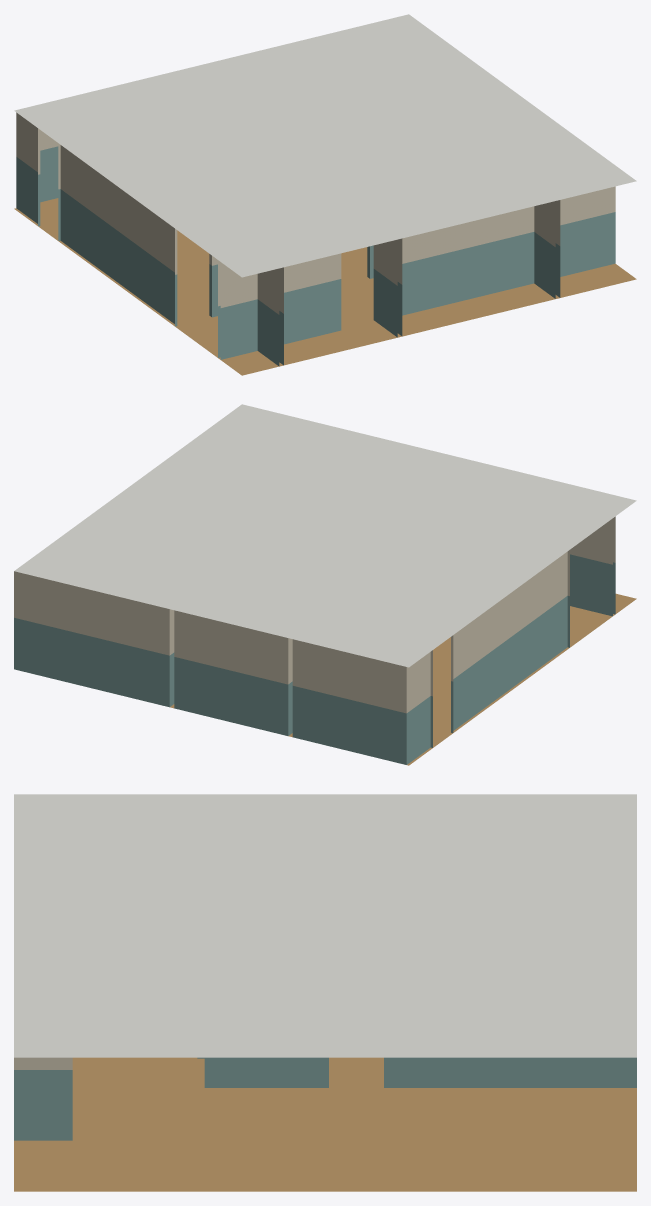
The model's file is chunk_1_0.glb.
3 views of the same model, one above another, from view 1: azimuth 30°, elevation 25°; view 2: azimuth 150°, elevation 25°; view 3: azimuth 270°, elevation 25° (orthographic). The views are drawn at different scales.
Parts seen in each view (by area): view 1: chunk_1_0; view 2: chunk_1_0; view 3: chunk_1_0.
Boxes of the visible parts, x1,y1,x2,y2 form: chunk_1_0: [14, 14, 636, 375]; chunk_1_0: [14, 404, 636, 765]; chunk_1_0: [14, 794, 636, 1191].
Size of the model in its own units: 12 by 2.85 by 12.
